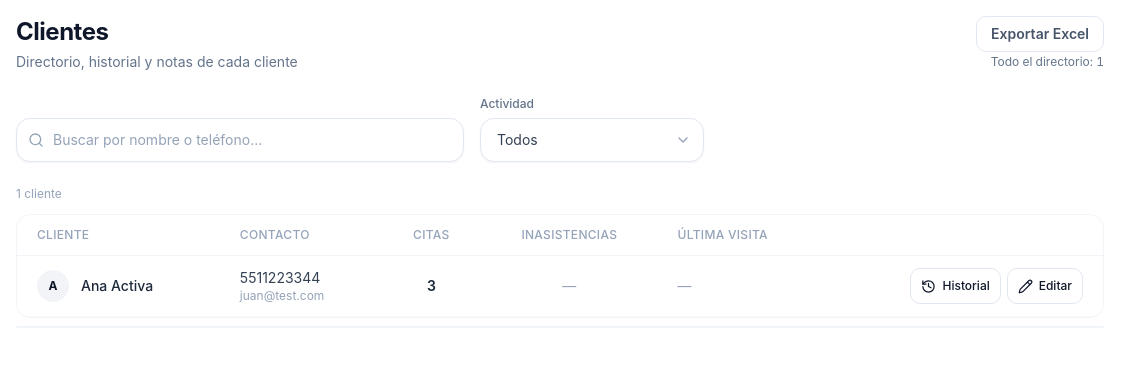
ClientesPage — filtro de actividad › Activos incluye a quien ya tiene una cita agendada a futuro
What coordinates should you click on to do the following:
click the button named "Actividad"
I would click on:
 (592, 140)
Its box is 480,118 -> 704,162.
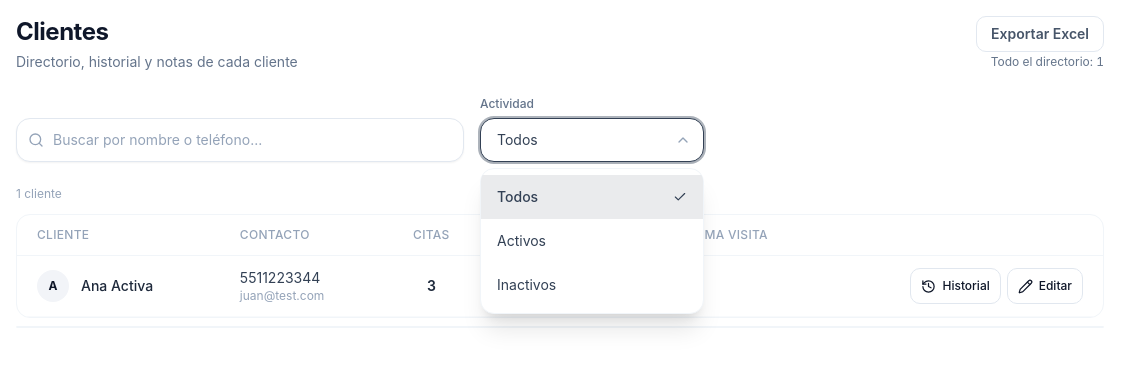
What coordinates should you click on to do the following:
click the option "Activos"
I would click on:
 (592, 241)
Its box is 481,219 -> 703,263.
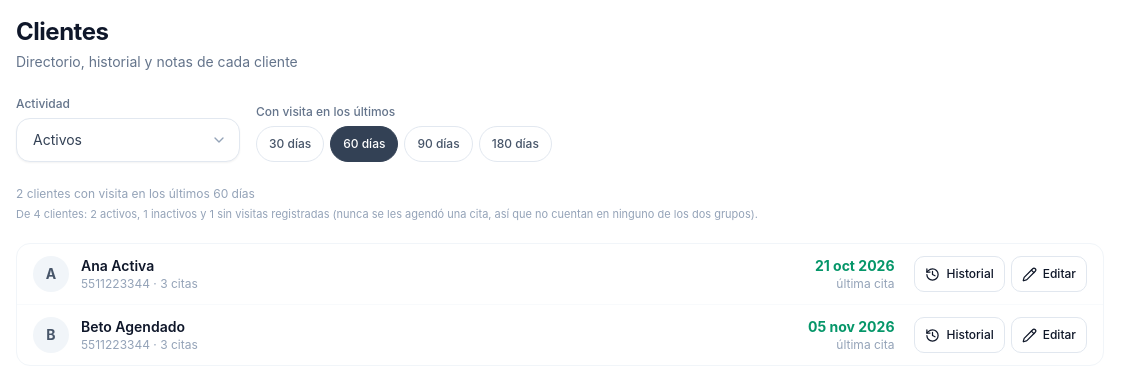
Expected: the text "Beto Agendado" is shown, 81,318 -> 185,335
